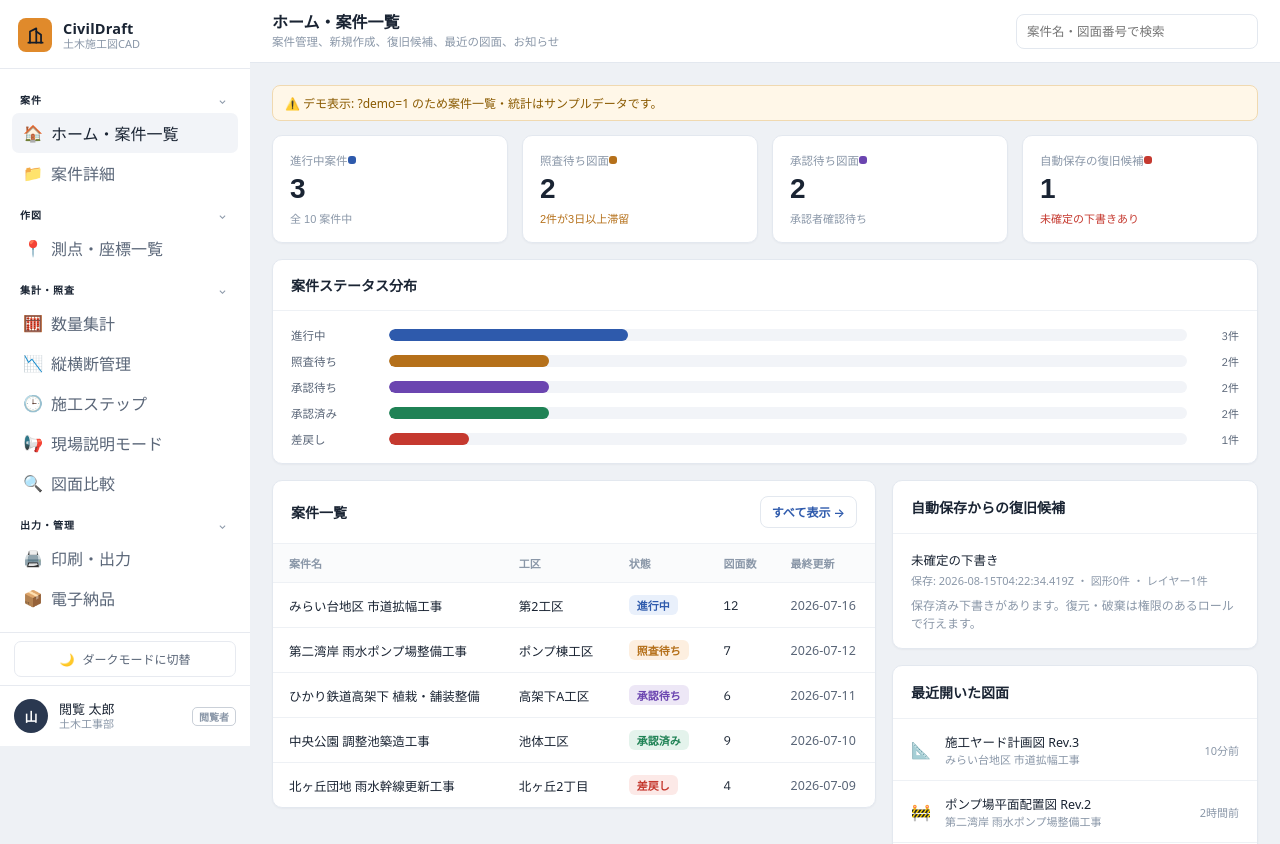
Test case: App ロール連動 › 現場説明モードは実 revisionId から承認状態を取得して表示する（#178）
Check: the field with placeholder "案件名・図面番号で検索" is shown, box [1016,14,1258,48]
Click the button "📢 現場説明モード" at (125, 443), box [12,423,238,463]
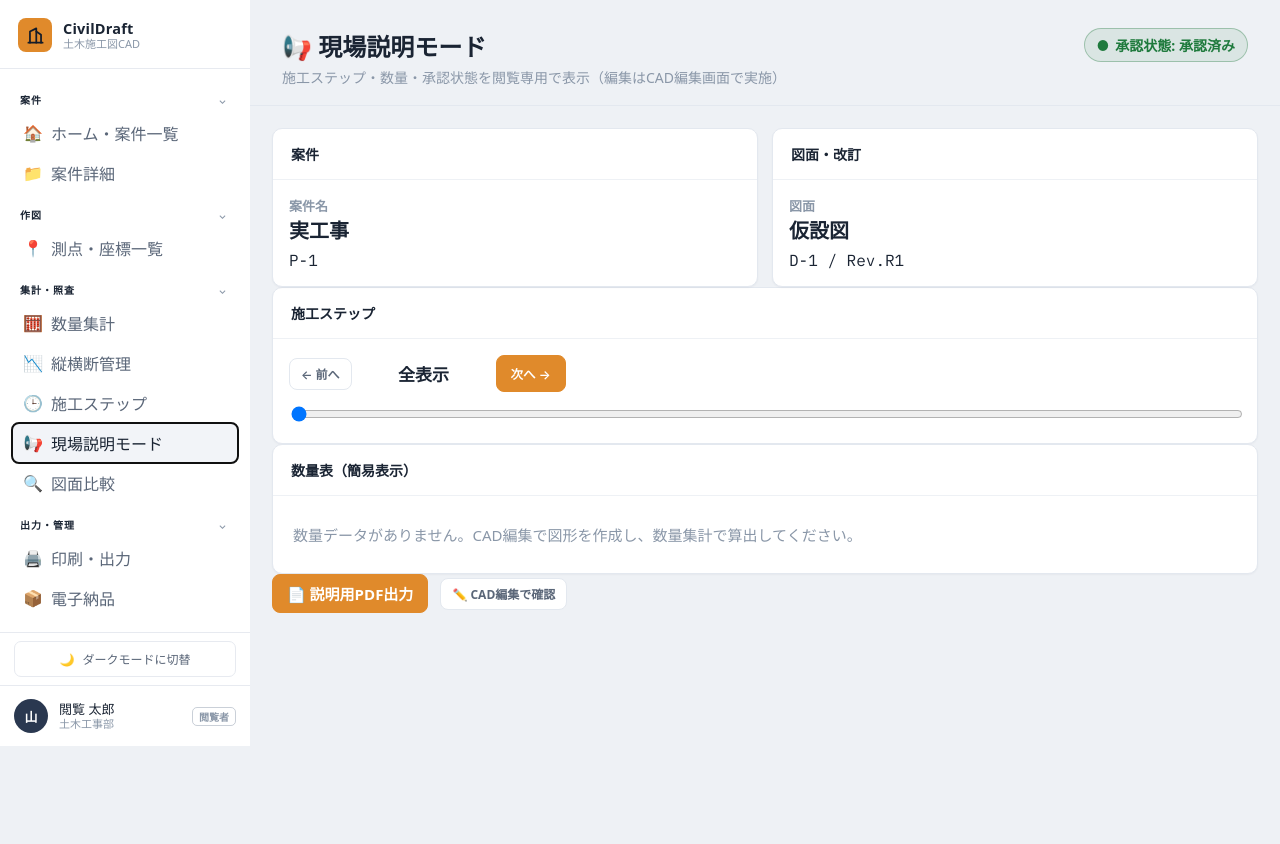
Check: the text "📢 現場説明モード" is shown, box [282,30,486,63]
Check: the element labelled "承認状態: 承認済み" is shown, box [1084,28,1248,62]
